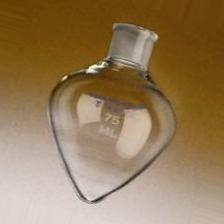Pear shaped flask: (48, 14, 176, 203)
